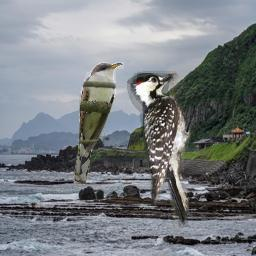Cuckoo: (74, 62, 124, 185)
Woodpecker: (125, 71, 200, 228)
